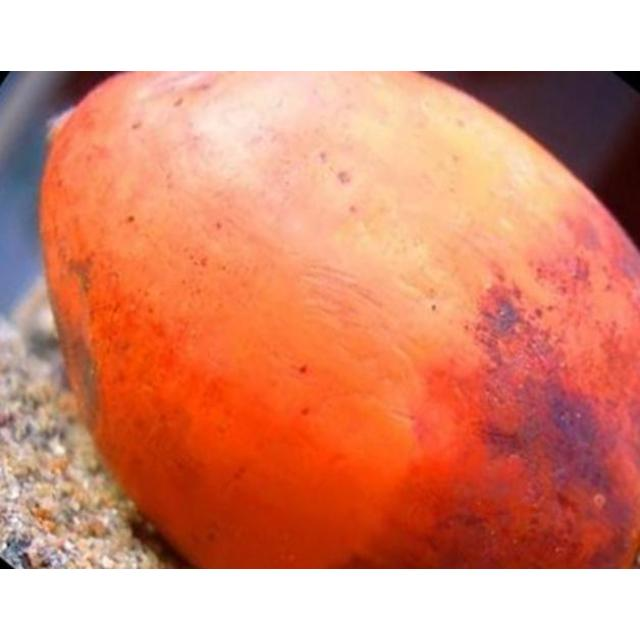good: (34, 71, 639, 568)
